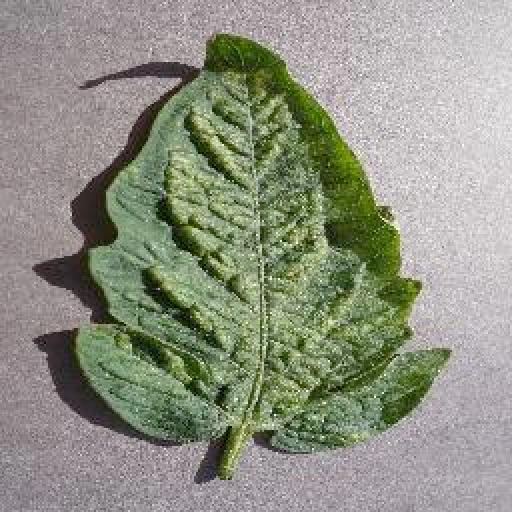disease_tomato: (74, 32, 450, 454)
